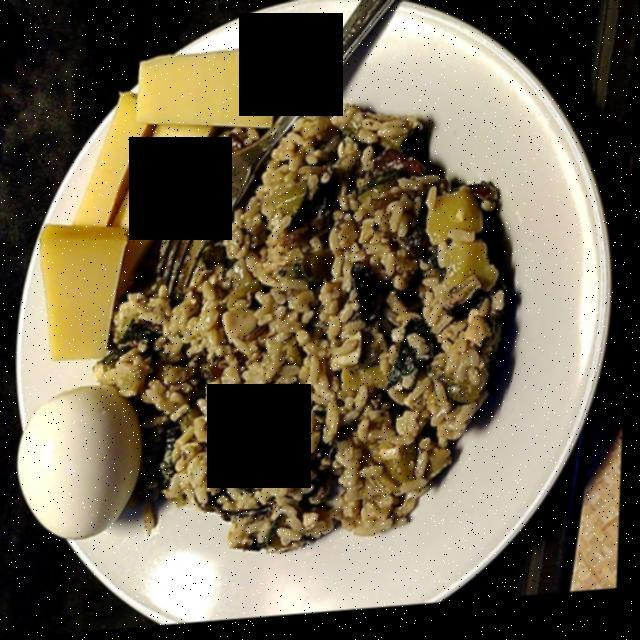egg: (12, 381, 144, 558)
gruyere: (44, 48, 281, 357)
rice: (111, 119, 507, 550)
